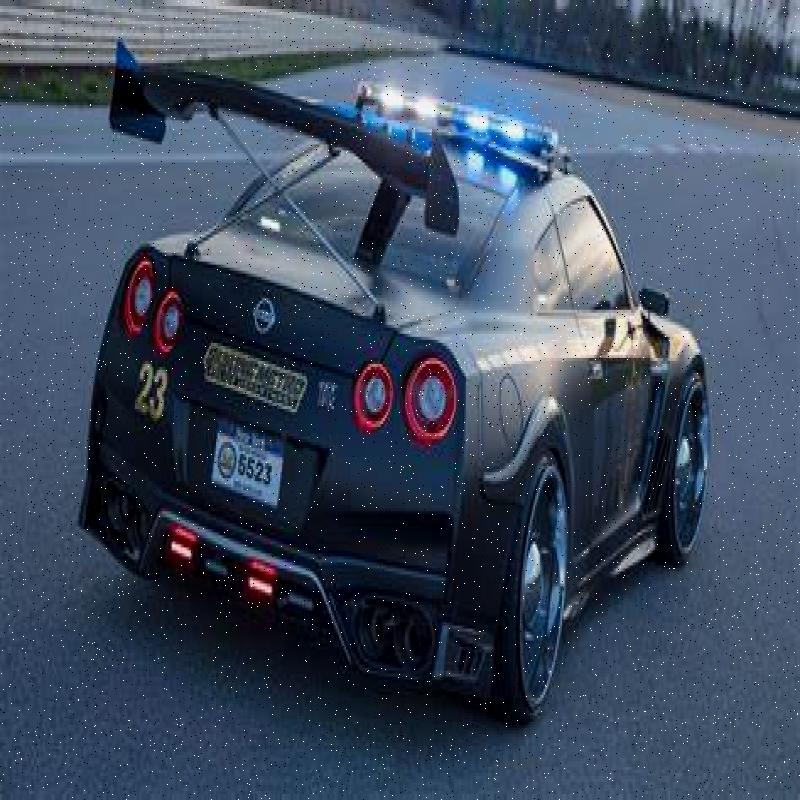AmbulanceSiren: (345, 76, 579, 159)
